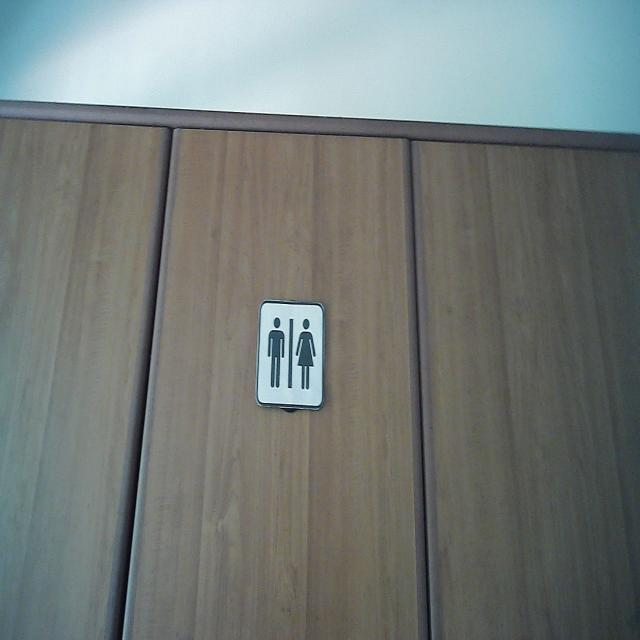restroom: (252, 298, 328, 413)
